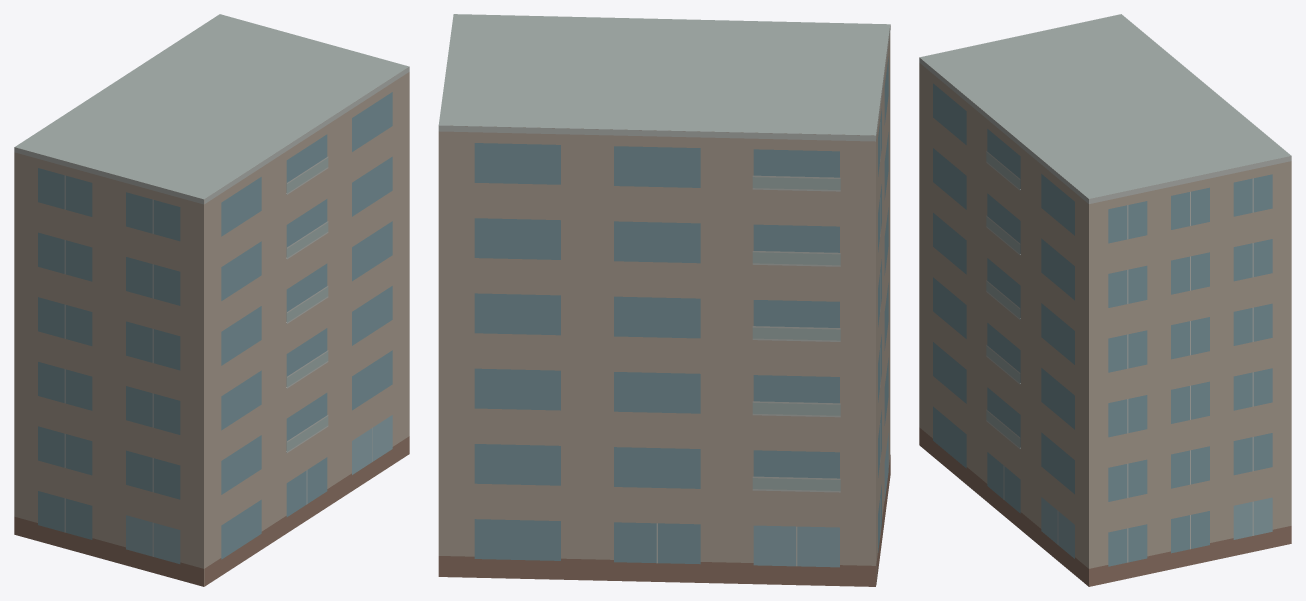
The model's file is survey-upis-32705158.glb.
3 renders of one model, left to right at view 1: azimuth 30°, elevation 25°; view 2: azimuth 150°, elevation 25°; view 3: azimuth 270°, elevation 25°, orthographic. The views are drawn at different scales.
Parts seen in each view (by area): view 1: survey-upis-32705158.tmp; view 2: survey-upis-32705158.tmp; view 3: survey-upis-32705158.tmp.
Part boxes in pixels (left/top/right/bottom): survey-upis-32705158.tmp: left=14, top=14, right=409, bottom=586; survey-upis-32705158.tmp: left=438, top=14, right=890, bottom=586; survey-upis-32705158.tmp: left=919, top=14, right=1291, bottom=586.
Bounding box in the file's own units: 18.73 × 18.3 × 15.93.
